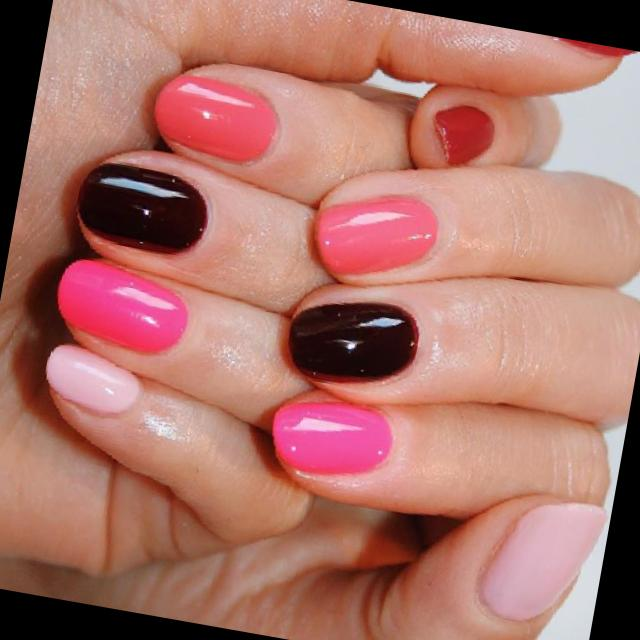Nail: (479, 502, 605, 620), (57, 258, 188, 352), (78, 162, 207, 254), (154, 75, 276, 164), (288, 302, 418, 382), (315, 195, 438, 276), (271, 403, 391, 473), (42, 343, 139, 413), (434, 105, 494, 166), (561, 39, 632, 57)
